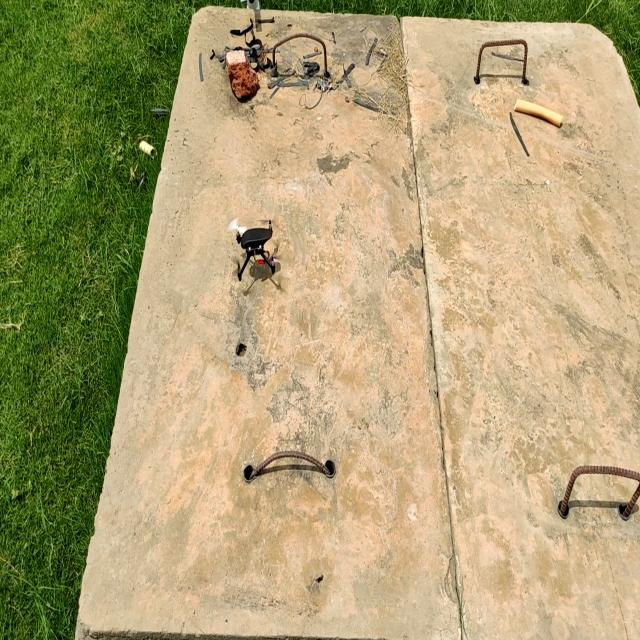drone: (222, 212, 282, 290)
